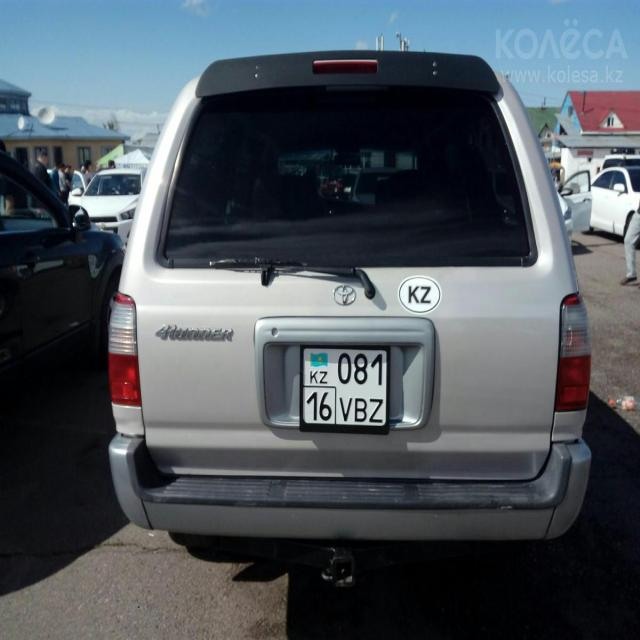car: (106, 48, 593, 586)
license: (300, 346, 389, 432)
